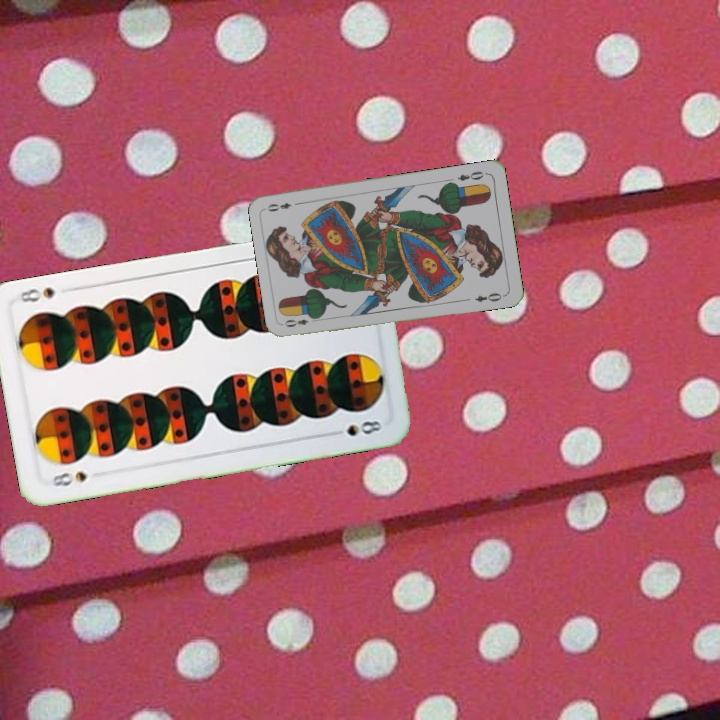EO: (281, 312, 321, 330), (453, 167, 489, 184)
S8: (48, 467, 89, 489)
